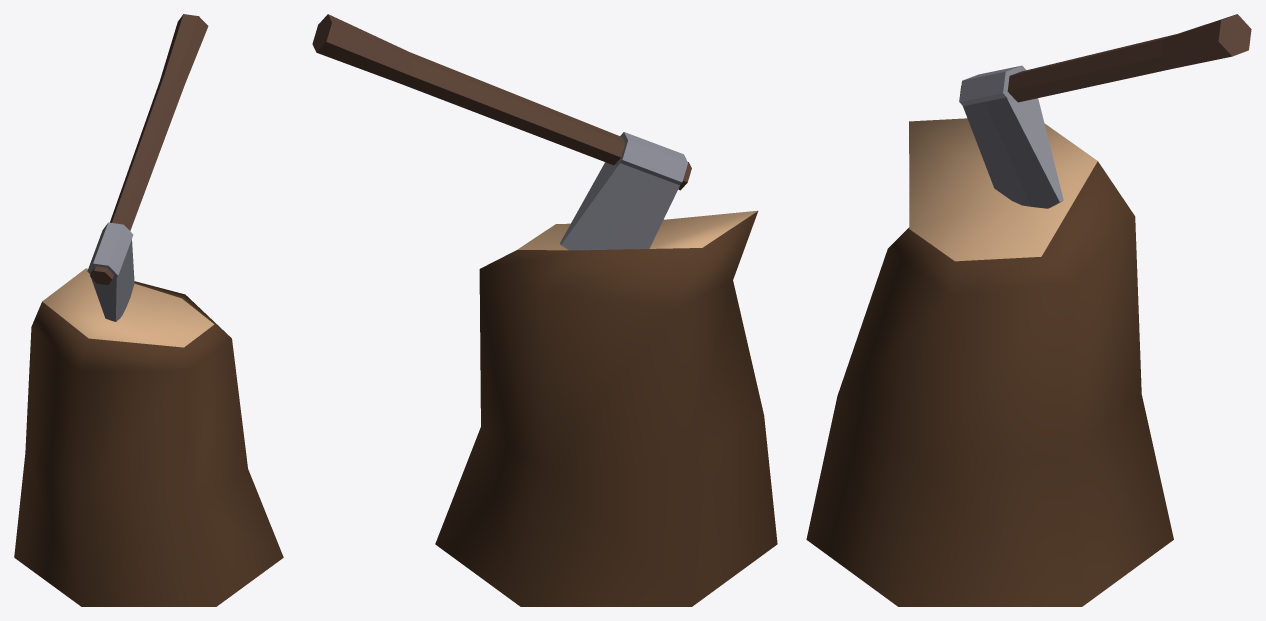
File: Axe 2.glb
The picture shows the model from 3 angles, left to right: view 1: azimuth 30°, elevation 25°; view 2: azimuth 150°, elevation 25°; view 3: azimuth 270°, elevation 25°; orthographic projection. The views are drawn at different scales.
Visible parts, largest first — view 1: Axe 2; view 2: Axe 2; view 3: Axe 2.
Boxes of the visible parts, x1,y1,x2,y2 form: Axe 2: [14, 14, 283, 606]; Axe 2: [312, 14, 777, 606]; Axe 2: [806, 14, 1251, 606].
Size of what is drawn, in the model's own units: 1.02 by 1.77 by 1.17.
1 material, 1 textured.
